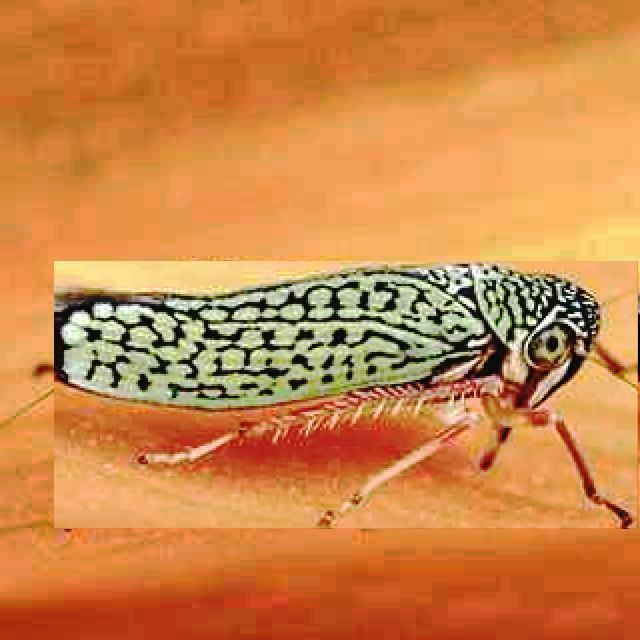green-leafhopper: (55, 261, 637, 528)
